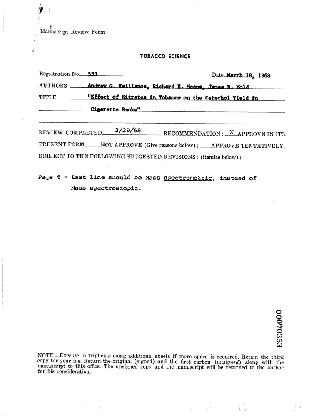textline: (38, 102, 286, 114), (38, 114, 286, 126), (58, 92, 287, 102), (69, 81, 286, 90), (101, 126, 163, 137), (223, 72, 286, 79), (79, 70, 124, 77), (223, 126, 238, 137), (87, 138, 103, 148), (199, 139, 214, 149)
